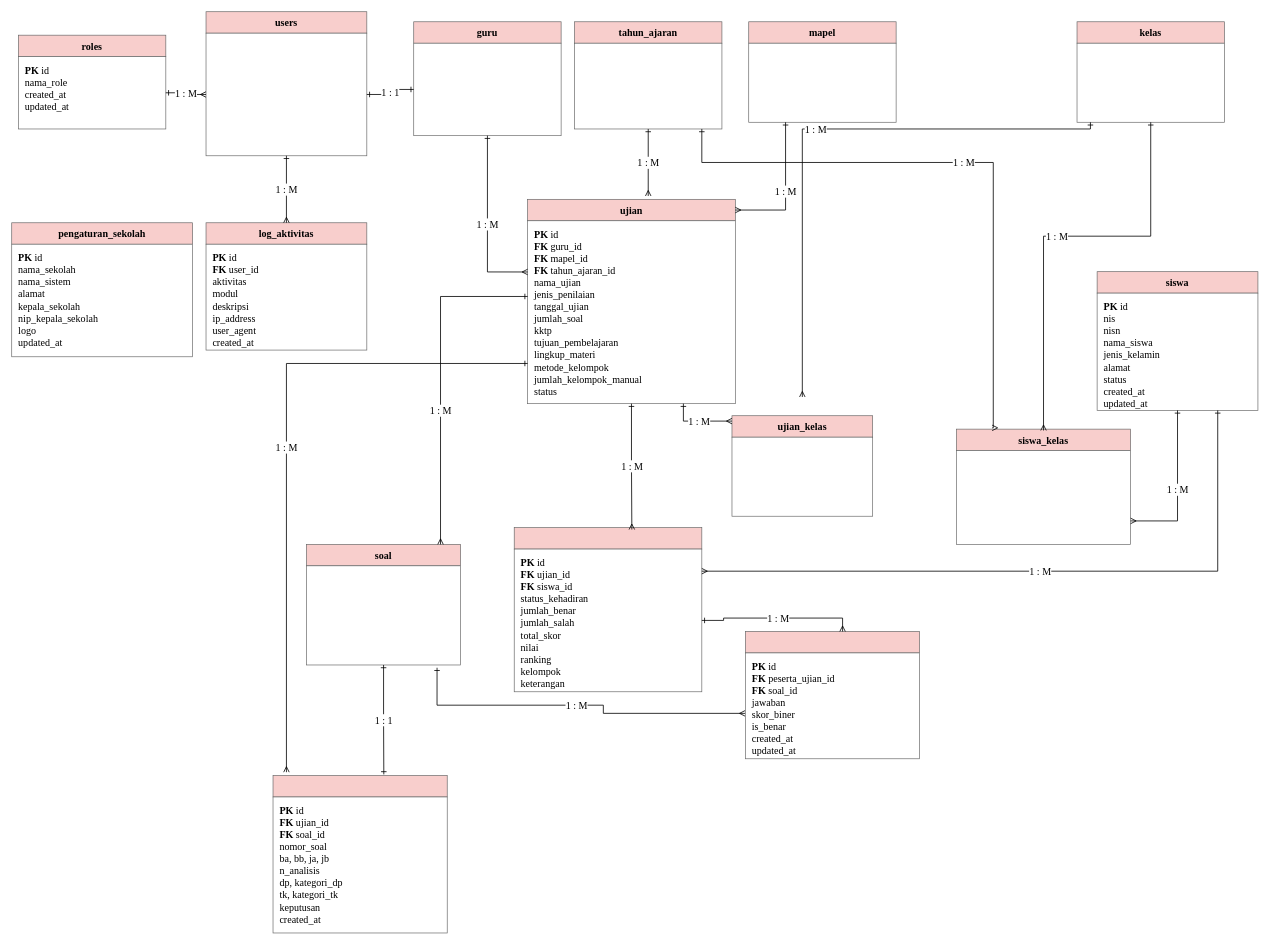
The diagram is 1270 pixels wide and 945 high, and some of its shapes have lost their labels. Here are the shapes that lost their labels. From the top down, the centre of each, then its label:
point (286, 94): PK id FK role_id name username email password status created_at updated_at
point (487, 89): PK id FK user_id nip nama_guru created_at updated_at
point (648, 86): PK id tahun_ajaran semester status_aktif created_at updated_at
point (822, 82): PK id kode_mapel nama_mapel created_at updated_at
point (1150, 82): PK id nama_kelas tingkat created_at updated_at
point (802, 476): PK id FK ujian_id FK kelas_id created_at updated_at
point (1043, 497): PK id FK siswa_id FK kelas_id FK tahun_ajaran_id status created_at updated_at
point (608, 538): peserta_ujian
point (383, 615): PK id FK ujian_id nomor_soal kunci_jawaban bobot created_at updated_at
point (832, 642): jawaban_siswa
point (359, 786): analisis_butir
